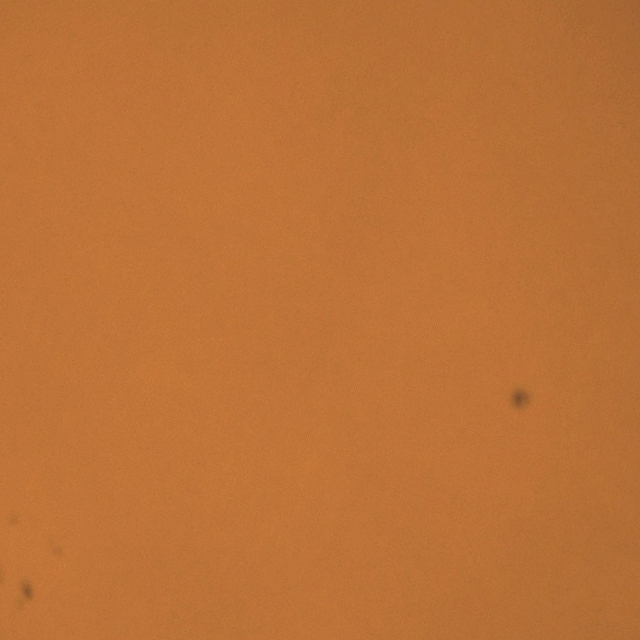sunspot: (20, 580, 35, 606)
